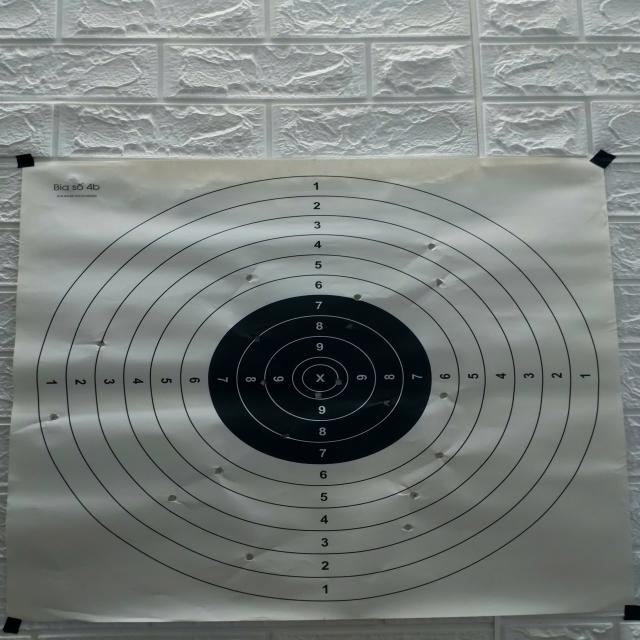bullet: (213, 467, 224, 475), (95, 339, 105, 347), (434, 278, 443, 286), (245, 553, 254, 561), (382, 399, 392, 406), (403, 524, 413, 531), (245, 274, 253, 282), (167, 495, 176, 502), (410, 492, 419, 499), (48, 414, 58, 420), (428, 243, 436, 250), (439, 392, 448, 398), (315, 392, 322, 399), (353, 294, 361, 300), (253, 336, 261, 342), (260, 379, 266, 387), (435, 452, 443, 458), (346, 323, 353, 329), (335, 379, 342, 385), (282, 433, 289, 438)
target: (8, 158, 632, 621)
